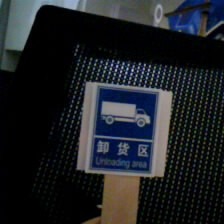unload: (77, 81, 167, 175)
